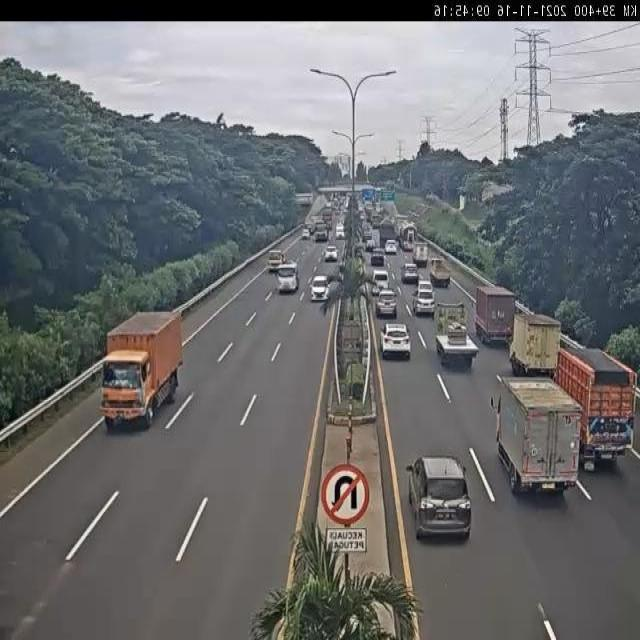Car: (406, 454, 473, 538), (380, 322, 411, 361), (412, 287, 436, 316), (376, 290, 398, 319), (310, 275, 330, 302), (401, 262, 419, 284), (417, 280, 435, 298), (370, 247, 385, 266), (324, 245, 338, 262), (365, 237, 376, 252), (385, 241, 397, 254), (336, 223, 345, 240), (302, 228, 310, 240)
Truck: (554, 344, 638, 469), (495, 376, 583, 495), (100, 310, 183, 432), (508, 307, 560, 379), (434, 304, 477, 366), (475, 284, 516, 346), (276, 260, 300, 294), (378, 216, 399, 248), (430, 258, 451, 288), (399, 222, 417, 252), (267, 248, 286, 271), (313, 220, 330, 245), (413, 242, 429, 268), (370, 211, 385, 229), (395, 214, 409, 233), (361, 220, 373, 241), (322, 209, 333, 231), (347, 194, 358, 212)
Van: (372, 269, 390, 297)
